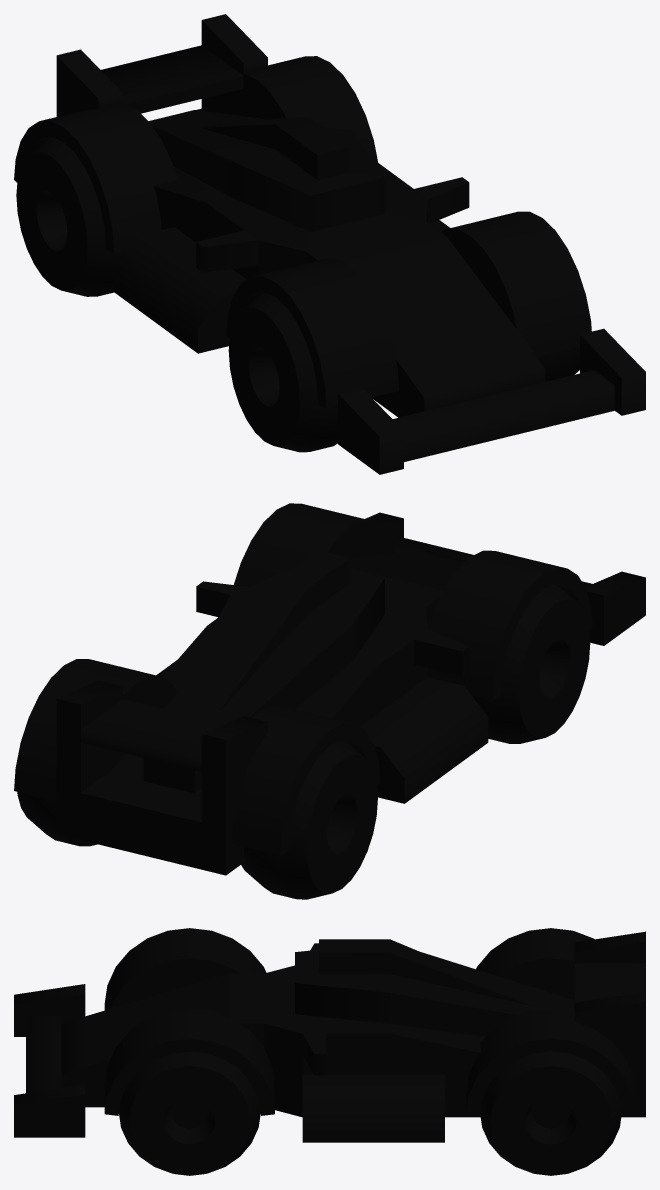
The model's file is race-future.glb.
3 views of the same model, one above another, from view 1: azimuth 30°, elevation 25°; view 2: azimuth 150°, elevation 25°; view 3: azimuth 270°, elevation 25° (orthographic). The views are drawn at different scales.
Parts seen in each view (by area): view 1: body, wheel-back-right (×2), wheel-back-left; view 2: body, wheel-back-right (×2), wheel-back-left; view 3: body, wheel-back-left (×2).
Boxes of the visible parts, x1=… form: body: x1=14, y1=14, x2=645, y2=474; wheel-back-right (×2): x1=16, y1=137, x2=337, y2=452; wheel-back-left: x1=537, y1=347, x2=579, y2=381; body: x1=14, y1=503, x2=645, y2=875; wheel-back-right (×2): x1=241, y1=584, x2=590, y2=899; wheel-back-left: x1=17, y1=792, x2=97, y2=846; body: x1=14, y1=928, x2=645, y2=1142; wheel-back-left (×2): x1=119, y1=1051, x2=621, y2=1175.
Bounding box in the file's own units: 1.2 × 0.8325 × 2.66.
1 material, 1 textured.
